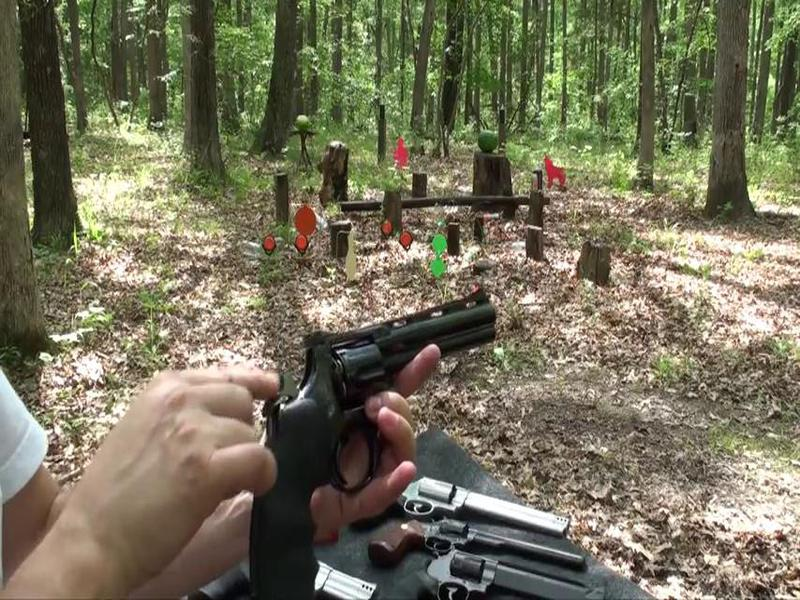Revolver: (236, 283, 517, 578)
